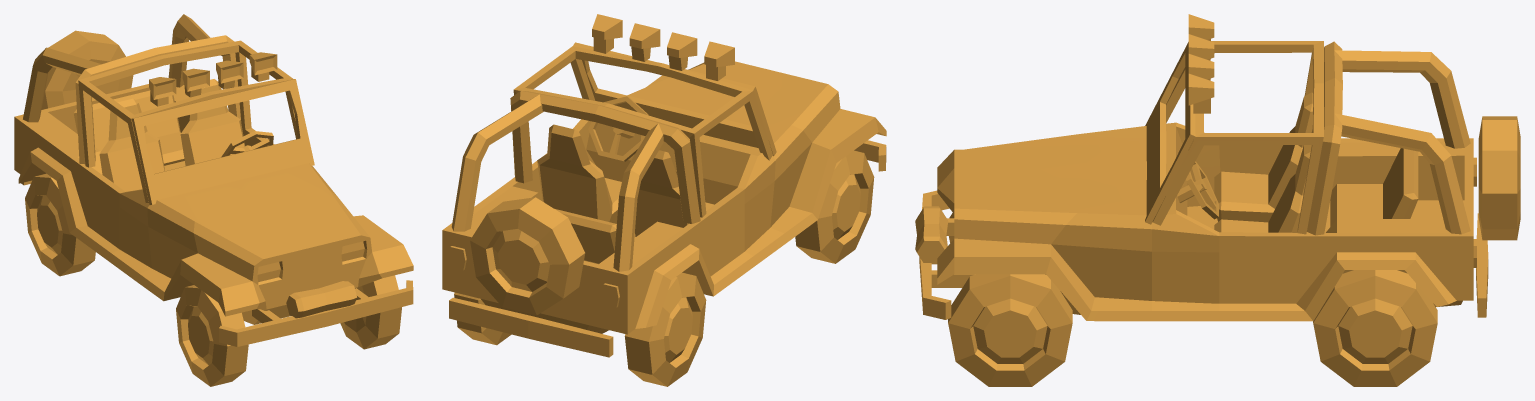
File: jeep-open.glb
3 renders of one model, left to right at view 1: azimuth 30°, elevation 25°; view 2: azimuth 150°, elevation 25°; view 3: azimuth 270°, elevation 25°, orthographic. The views are drawn at different scales.
Parts seen in each view (by area): view 1: jeep-open-base, jeep-open-wheel_FR, jeep-open-wheel_BL, jeep-open-wheel_FL; view 2: jeep-open-base, jeep-open-wheel_BL, jeep-open-wheel_FR, jeep-open-wheel_BR; view 3: jeep-open-base, jeep-open-wheel_FL, jeep-open-wheel_BR.
Boxes of the visible parts, x1,y1,x2,y2 form: jeep-open-base: (14, 14, 413, 346); jeep-open-wheel_FR: (176, 285, 248, 386); jeep-open-wheel_BL: (25, 173, 95, 276); jeep-open-wheel_FL: (340, 275, 401, 349); jeep-open-base: (442, 14, 886, 357); jeep-open-wheel_BL: (624, 272, 706, 386); jeep-open-wheel_FR: (795, 150, 874, 263); jeep-open-wheel_BR: (454, 292, 511, 345); jeep-open-base: (915, 14, 1520, 321); jeep-open-wheel_FL: (948, 274, 1072, 386); jeep-open-wheel_BR: (1313, 270, 1437, 386).
Bounding box in the file's own units: 1.83 × 2.12 × 4.09.
